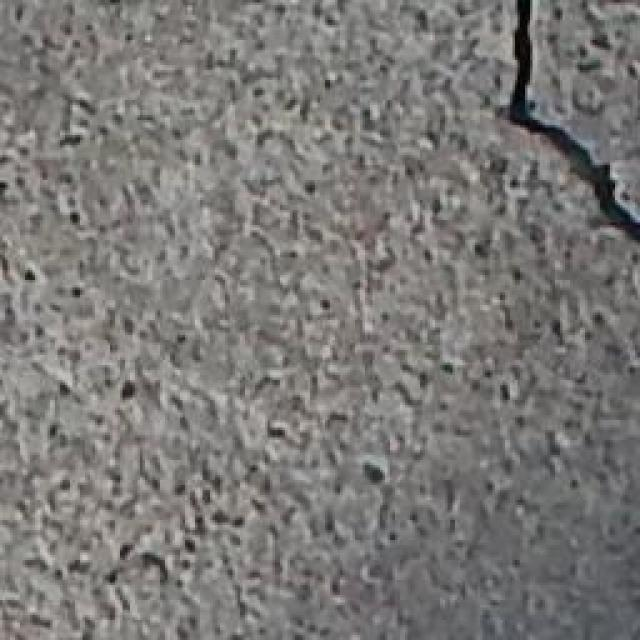concrete-crack: (496, 0, 640, 251)
